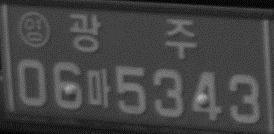0: (16, 58, 48, 108)
3: (152, 68, 185, 119), (228, 73, 261, 124)
4: (191, 72, 222, 120)
5: (115, 64, 147, 115)
6: (52, 60, 82, 111)
광주_D: (69, 12, 198, 59)
마: (86, 68, 113, 109)
영: (17, 10, 51, 48)
